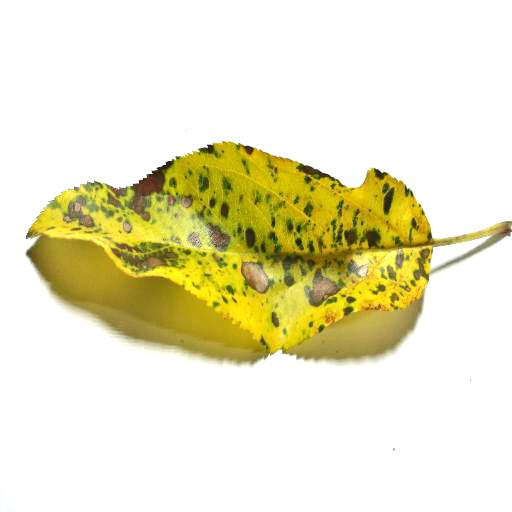Brown_Spot: (123, 177, 164, 216), (62, 201, 97, 224), (308, 271, 333, 303), (245, 263, 268, 293), (133, 256, 182, 266), (208, 229, 227, 250), (167, 193, 192, 205), (122, 218, 139, 233)
